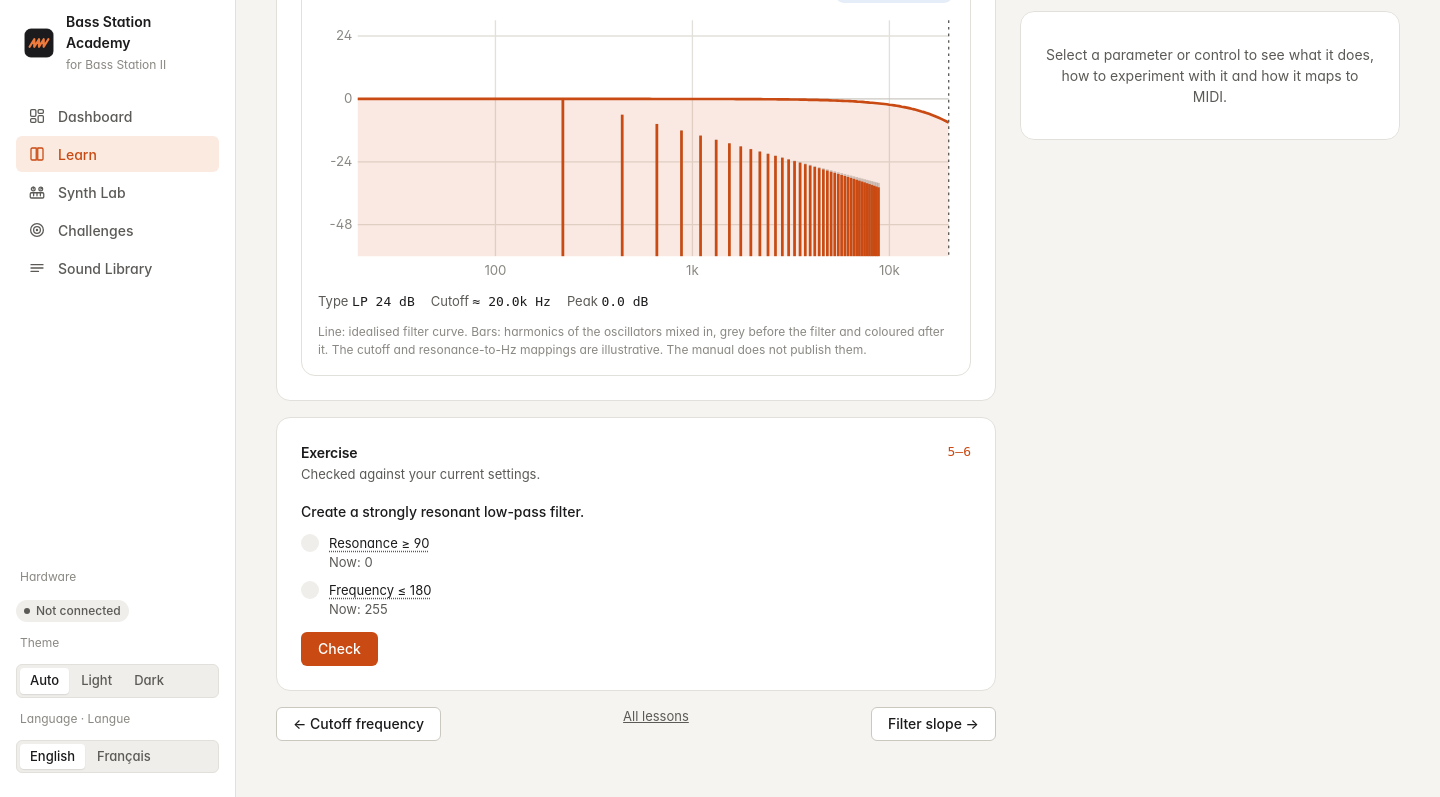
Test case: lesson player › validates a "set" exercise against live state and records completion
(page scrolled)
Click the button "Check" at (339, 649), box [301,632,378,666]
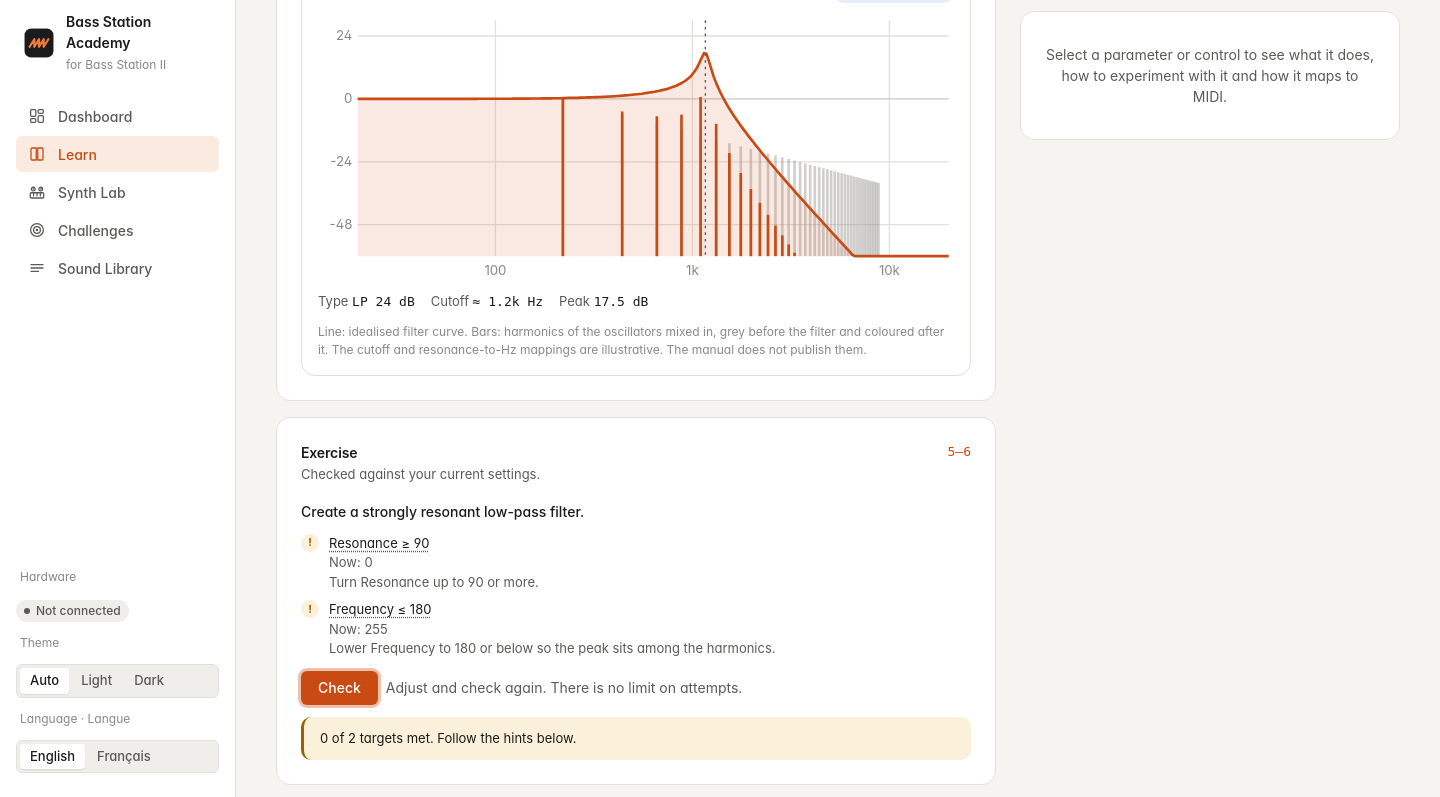
Expected: the message named "Exercise feedback" shows "0 of 2 targets met", [320,730,576,746]
Click the button "Check" at (339, 688), box [301,671,378,705]
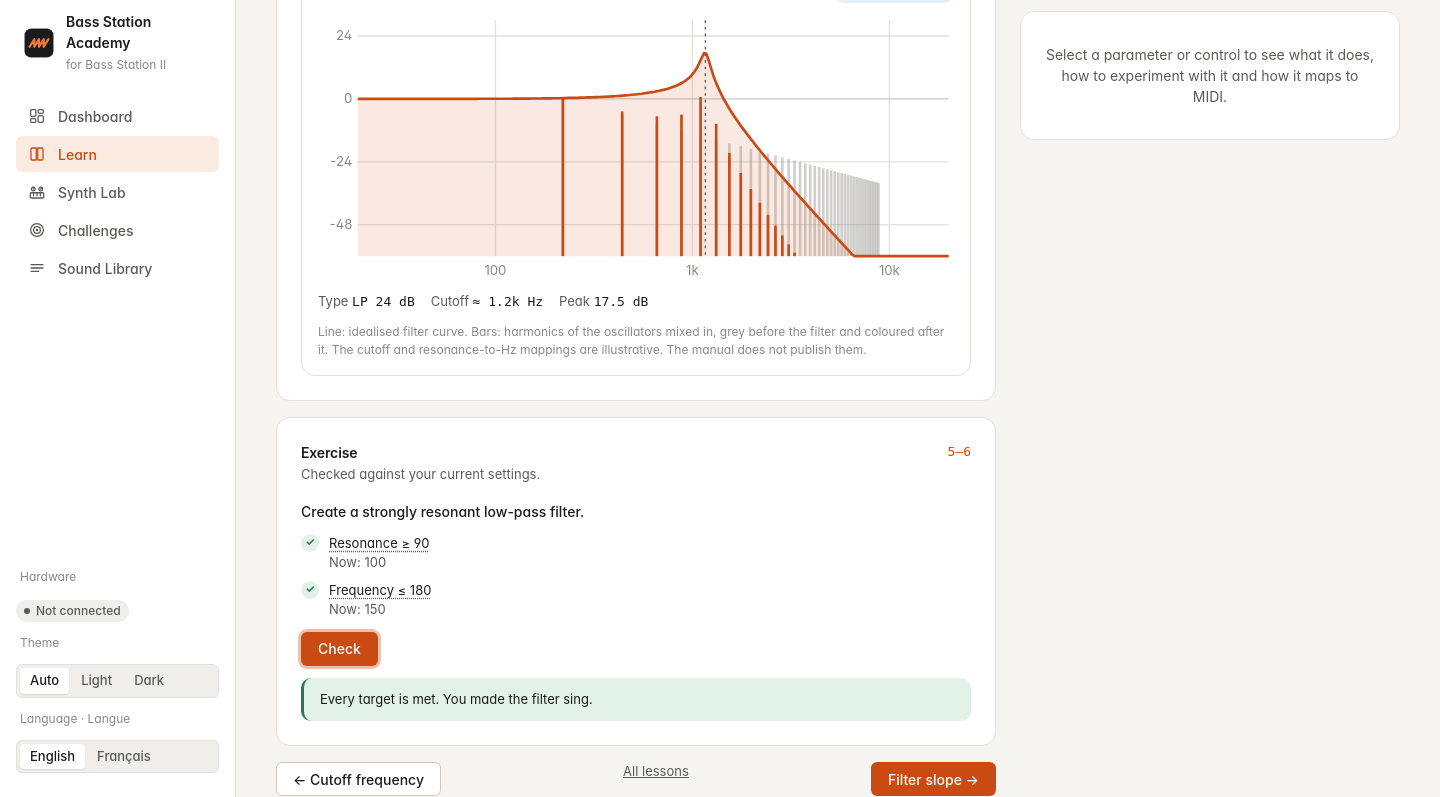
Expected: the message named "Exercise feedback" shows "Every target is met", [320,691,593,707]
